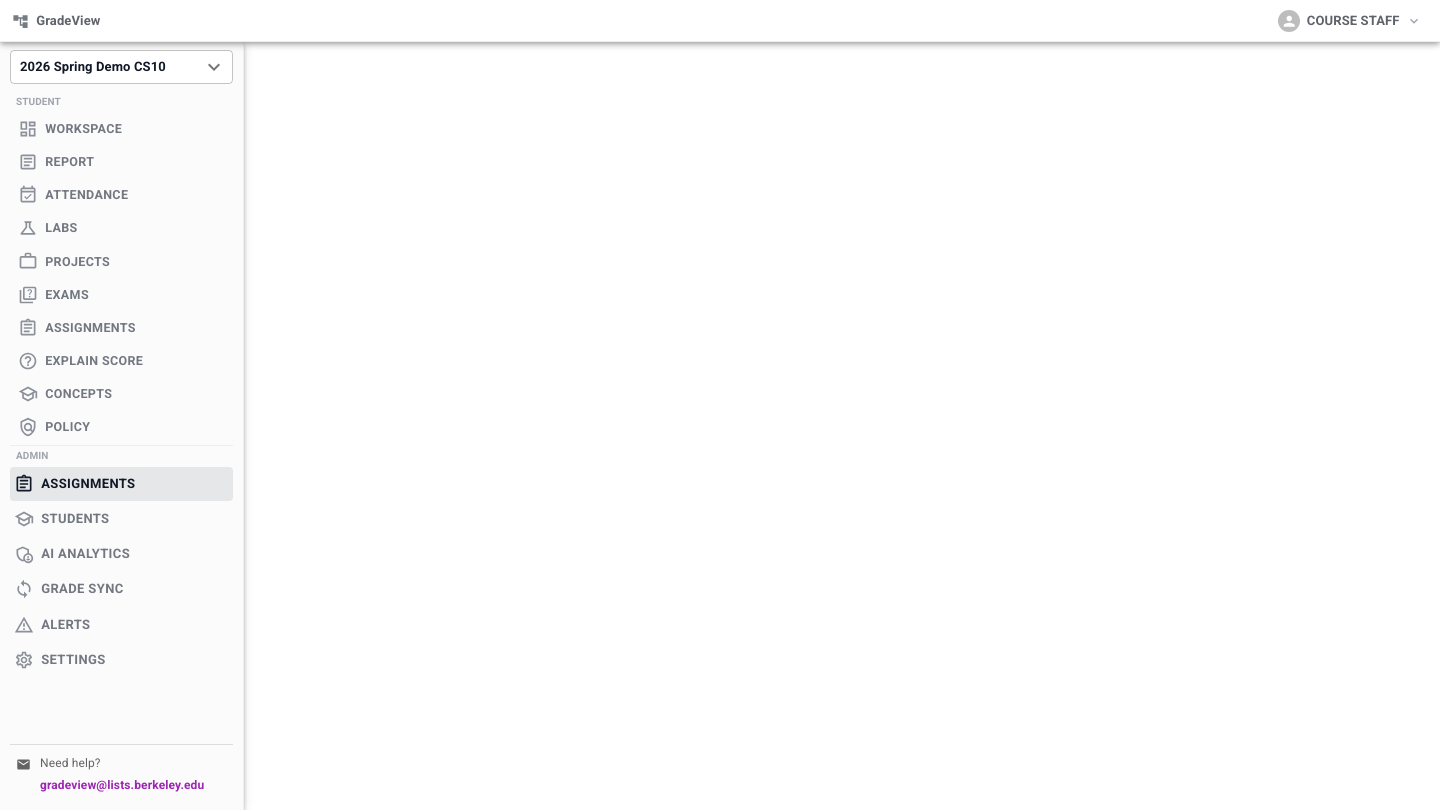
Test: route-authoritative staff shell navigation › updates selected-student links when the class course changes
The width and height of the screenshot is (1440, 810).
Expected: the dropdown named "Current course" reads "2026 Spring Demo CS10", [20, 59, 166, 74]
Replace the text in the field labelled "2026 Spring Demo CS10" with "2" at (122, 67), box [10, 50, 233, 84]
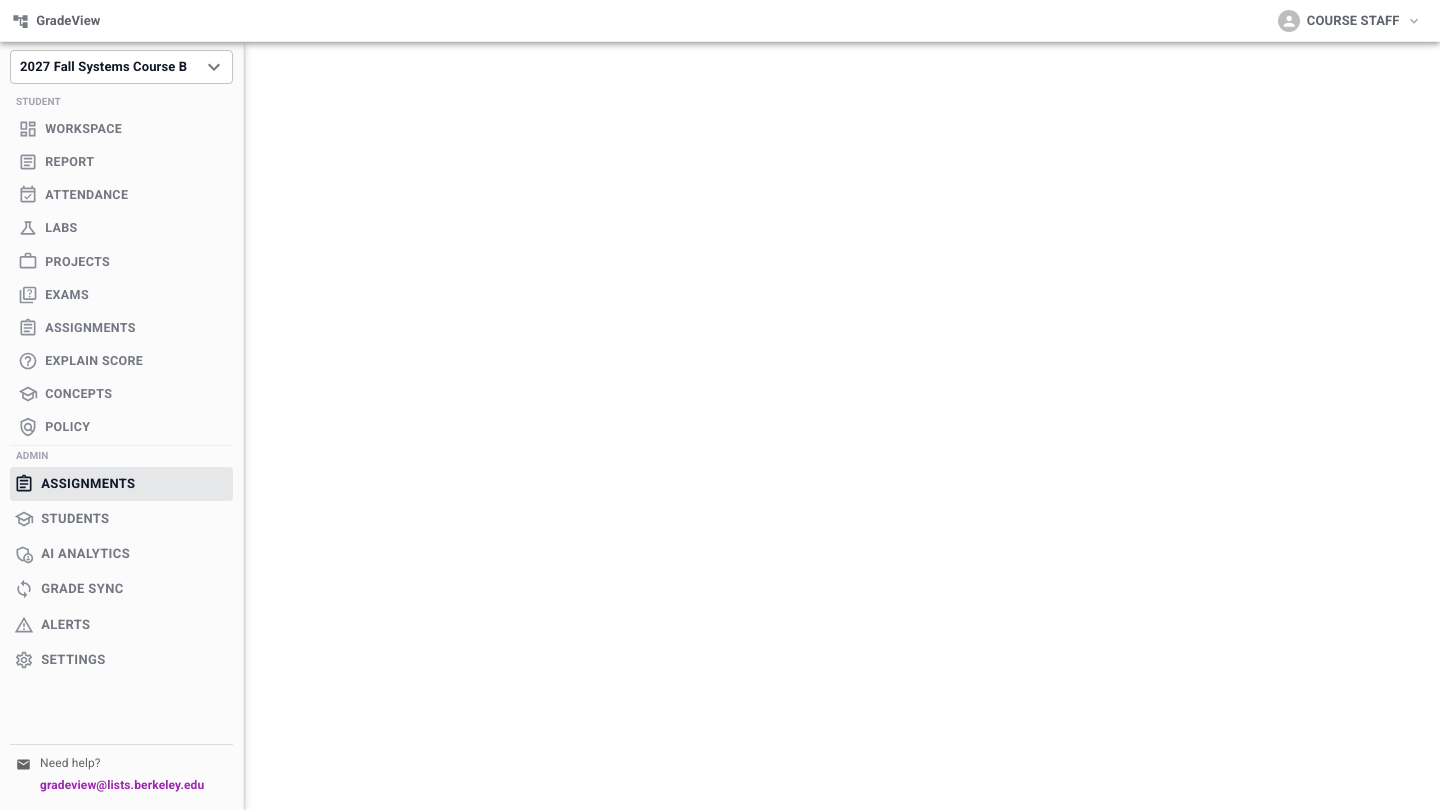
Expected: the dropdown named "Current course" reads "2027 Fall Systems Course B", [20, 59, 187, 74]
